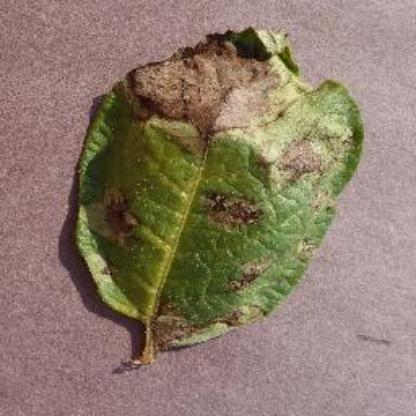Late-Blight: (37, 20, 377, 348)
